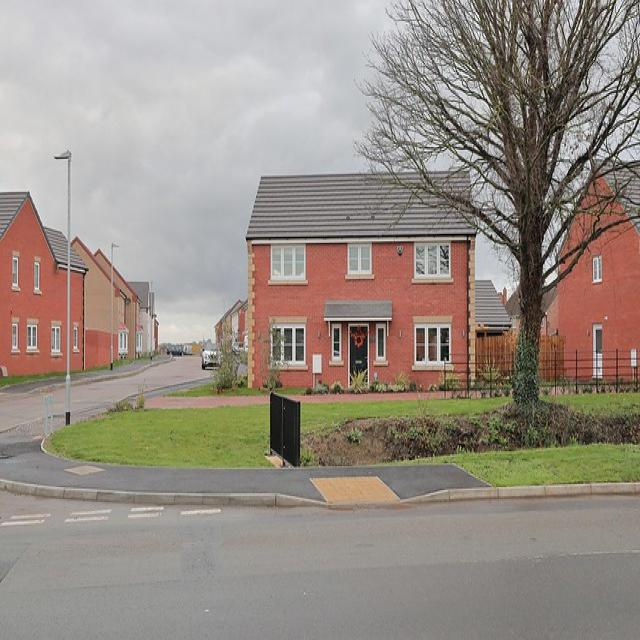Normal_building: (243, 163, 481, 399)
